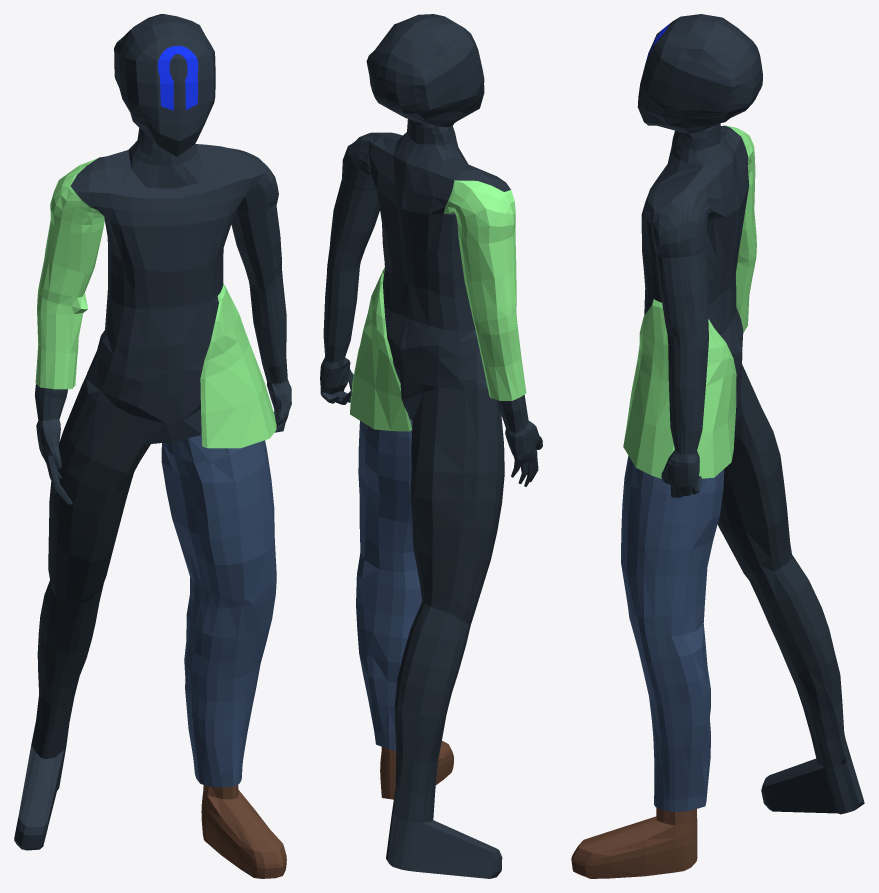
The model's file is Mar_Recover_000005.obj.
The picture shows the model from 3 angles, left to right: view 1: azimuth 30°, elevation 25°; view 2: azimuth 150°, elevation 25°; view 3: azimuth 270°, elevation 25°; orthographic projection. The views are drawn at different scales.
Parts seen in each view (by area): view 1: Cube.000_Cube.001; view 2: Cube.000_Cube.001; view 3: Cube.000_Cube.001.
Boxes of the visible parts, x1,y1,x2,y2 form: Cube.000_Cube.001: (14, 14, 291, 878); Cube.000_Cube.001: (320, 14, 542, 878); Cube.000_Cube.001: (571, 14, 864, 878).
Size of the model in its own units: 1.16 by 3.97 by 1.26.
